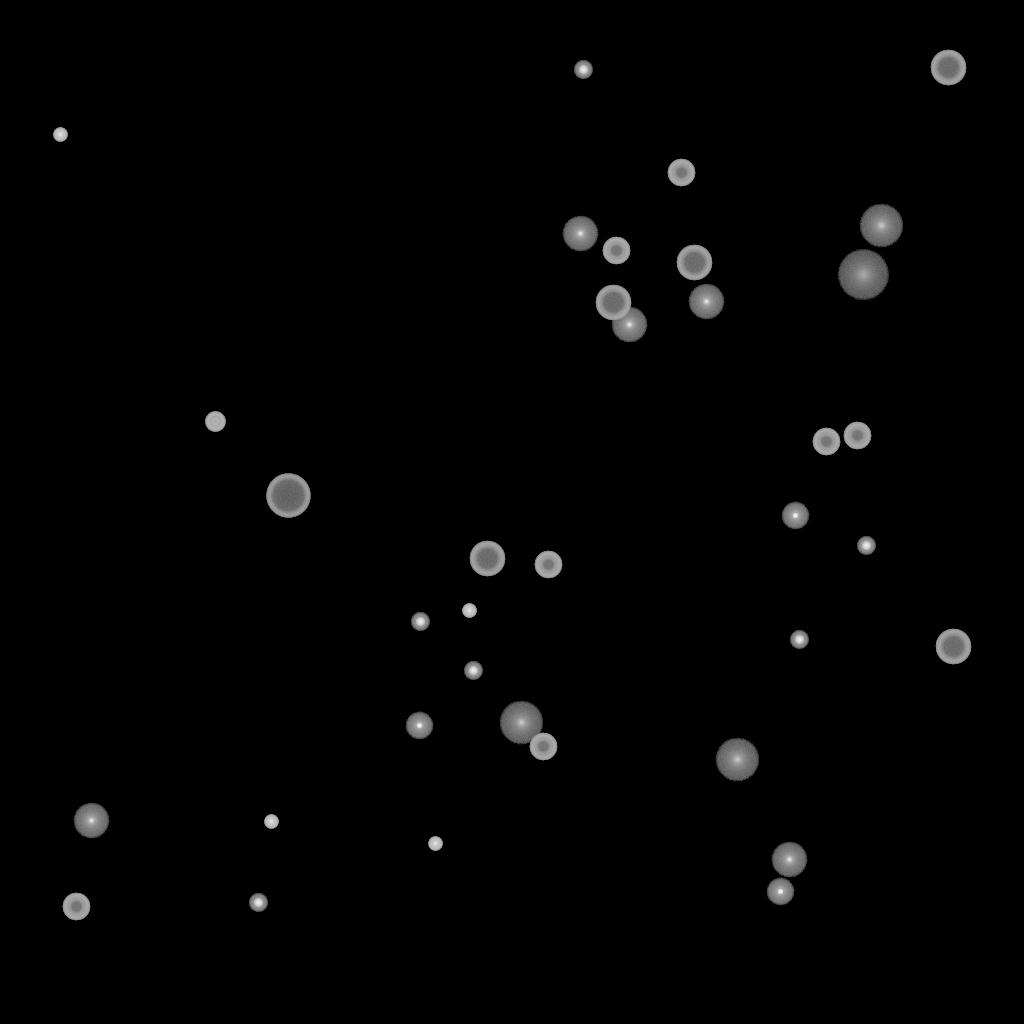depth:-10: (405, 712, 433, 740), (766, 878, 794, 906), (781, 502, 809, 530)
depth:-20: (411, 613, 429, 631), (857, 537, 875, 555), (249, 894, 267, 912), (574, 61, 592, 79), (790, 631, 808, 649), (464, 662, 482, 680)
depth:-30: (264, 815, 278, 829), (53, 128, 67, 142), (428, 837, 442, 851), (462, 604, 476, 618)
depth:-40: (205, 412, 225, 432)
depth:-50: (667, 159, 695, 187), (529, 733, 557, 761), (602, 237, 630, 265), (62, 893, 90, 921), (812, 428, 840, 456), (534, 551, 562, 579), (843, 422, 871, 450)
depth:-60: (930, 50, 966, 86), (595, 285, 631, 321), (676, 245, 712, 281), (469, 541, 505, 577), (935, 629, 971, 665)
depth:-70: (266, 474, 310, 518)
depth:0: (73, 803, 109, 839), (688, 284, 724, 320), (562, 216, 598, 252), (771, 842, 807, 878), (611, 307, 647, 343)
depth:10: (715, 738, 759, 782), (499, 701, 543, 745), (859, 204, 903, 248)
depth:20: (837, 250, 889, 300)
